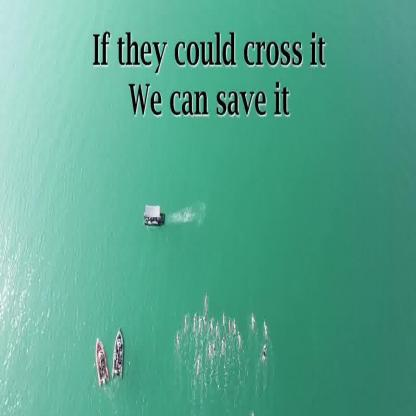Boat: (112, 328, 128, 378), (92, 339, 108, 384)
